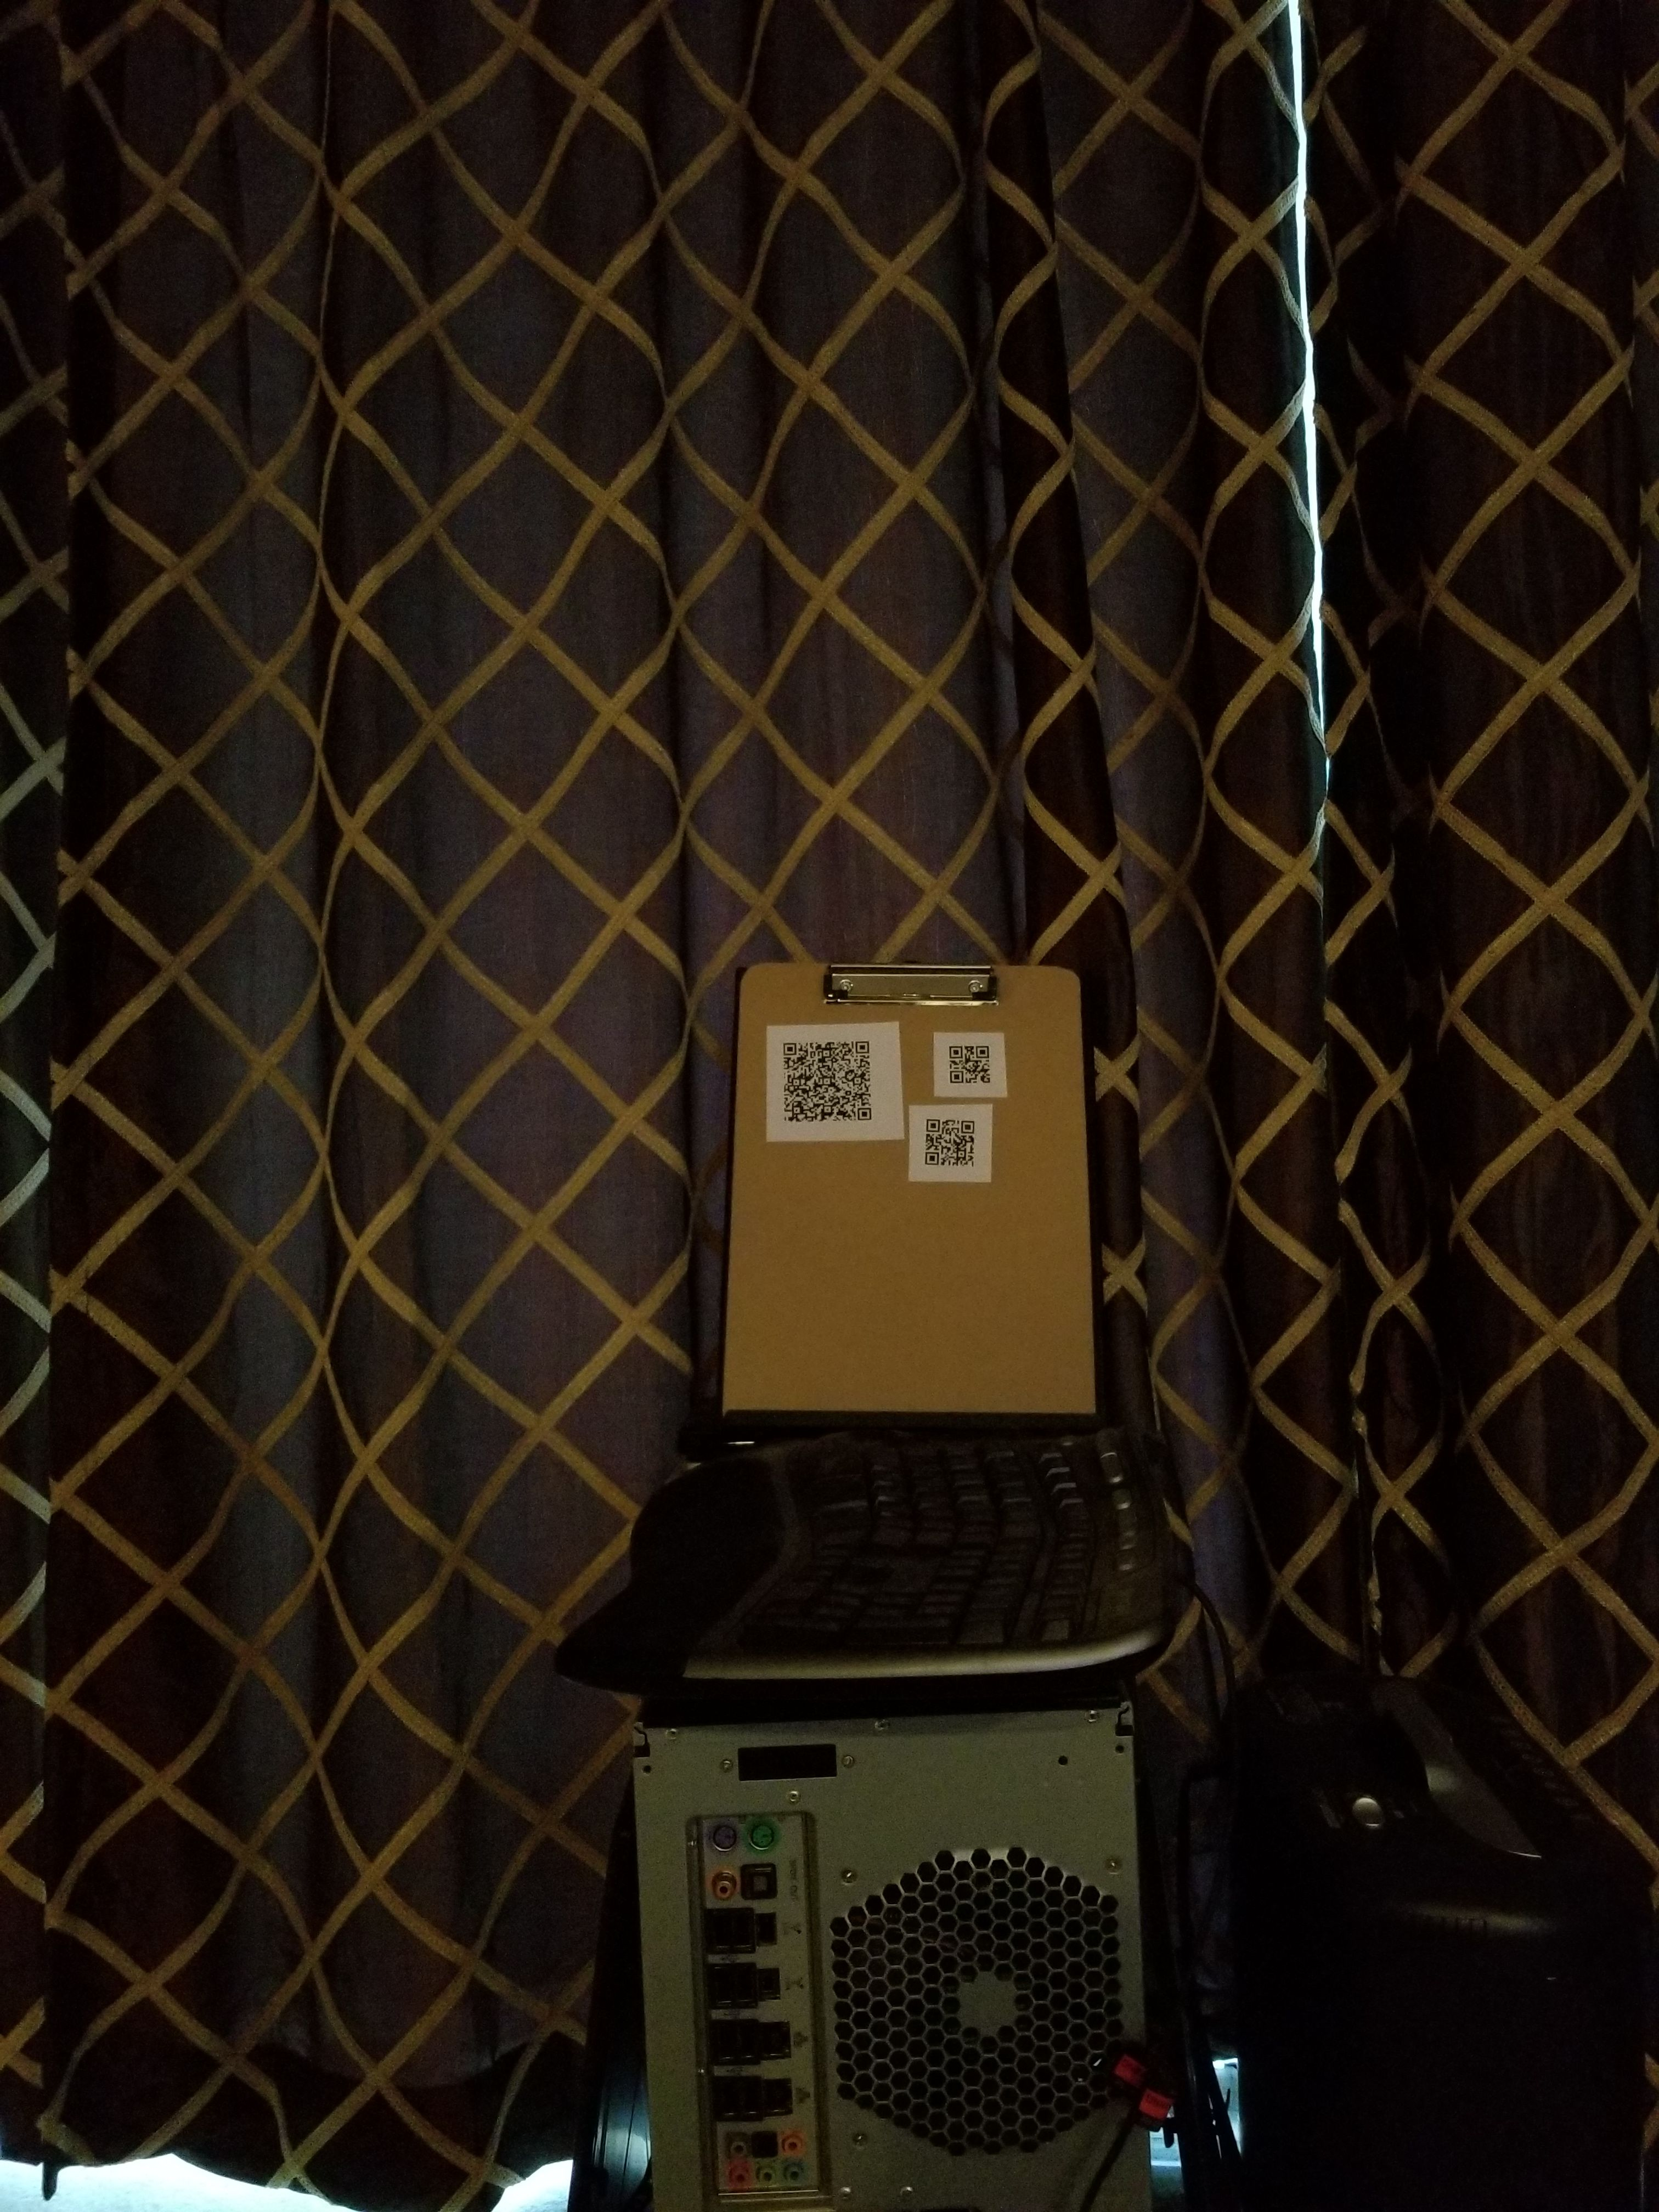QR_CODE: (765, 1019, 890, 1129), (915, 1108, 1004, 1193), (938, 1031, 1009, 1092)
